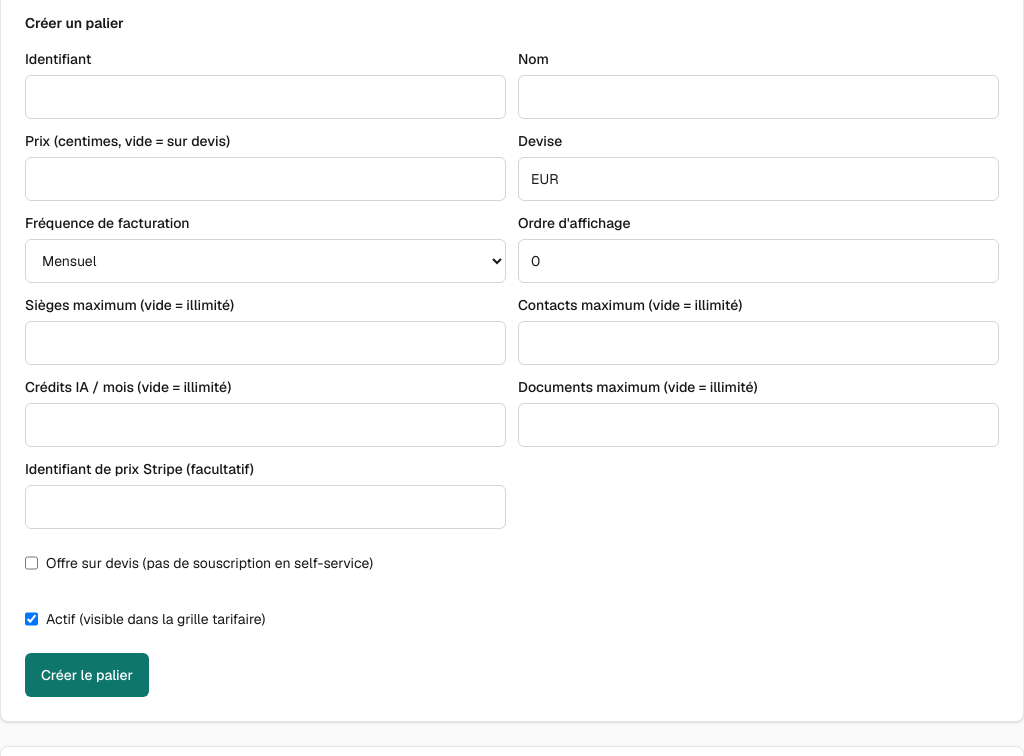
PlatformPlansPage › cree un palier depuis le formulaire
Type "pro" into the field labelled "Identifiant" at (266,97), box [25,75,506,119]
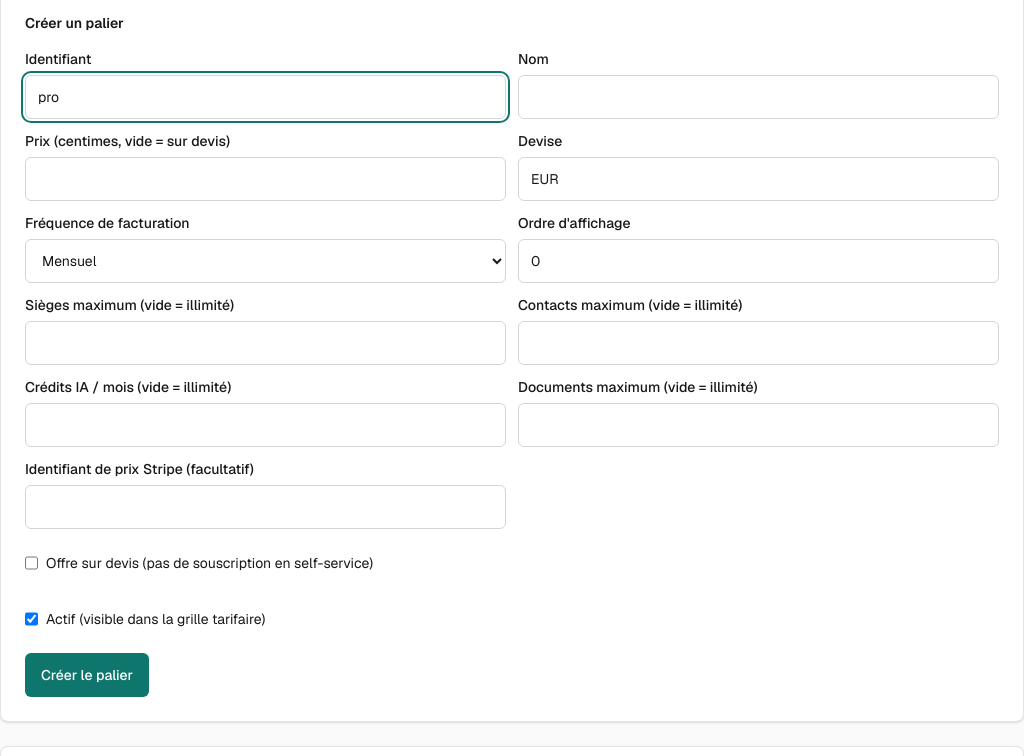
Type "Pro" into the field labelled "Nom" at (758,97), box [518,75,999,119]
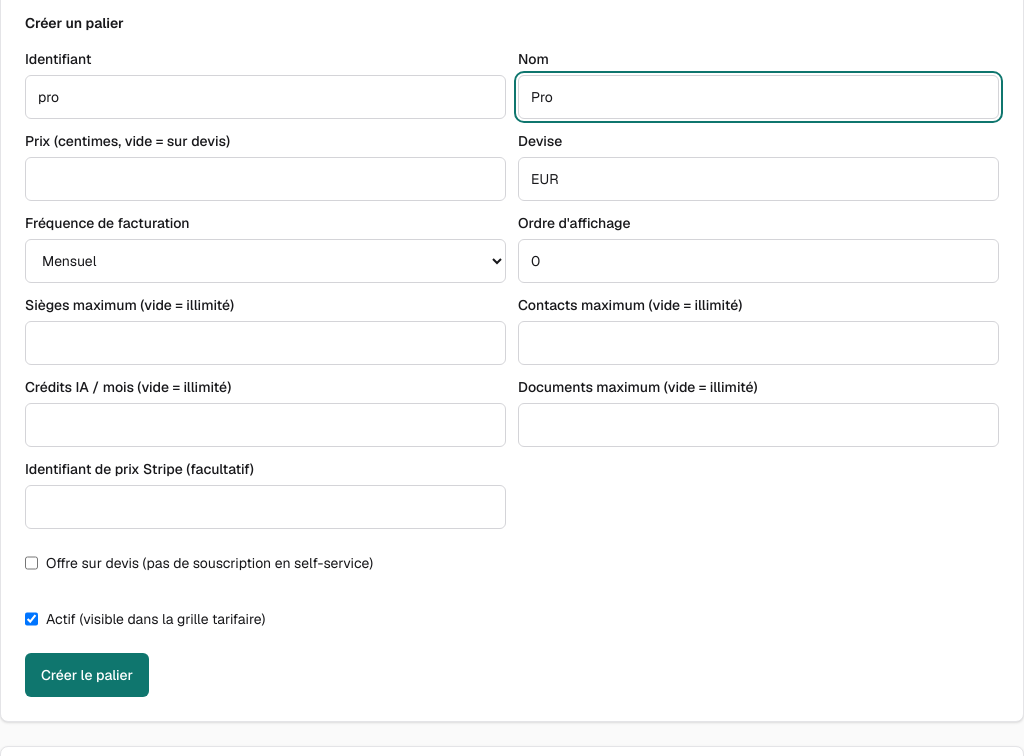
Click the button "Créer le palier" at (87,675), box [25,653,149,697]
(page scrolled)
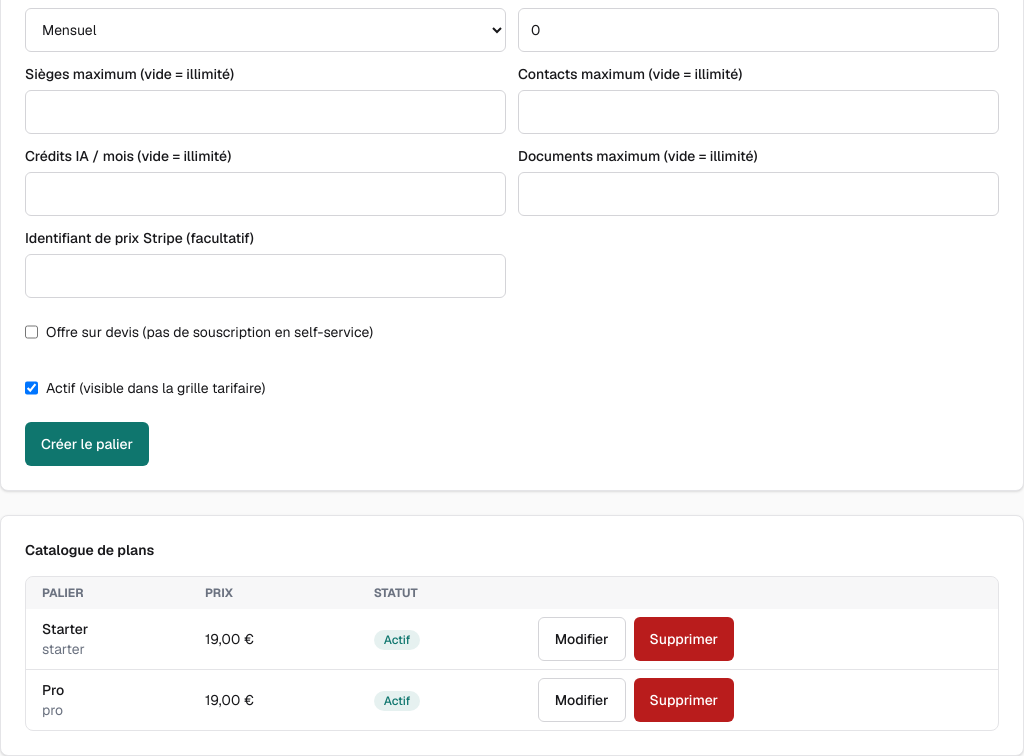
Now the text "Pro" is shown, box [42,681,64,699]
